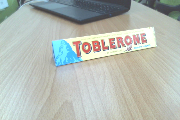Chocolate: (45, 24, 165, 70)
